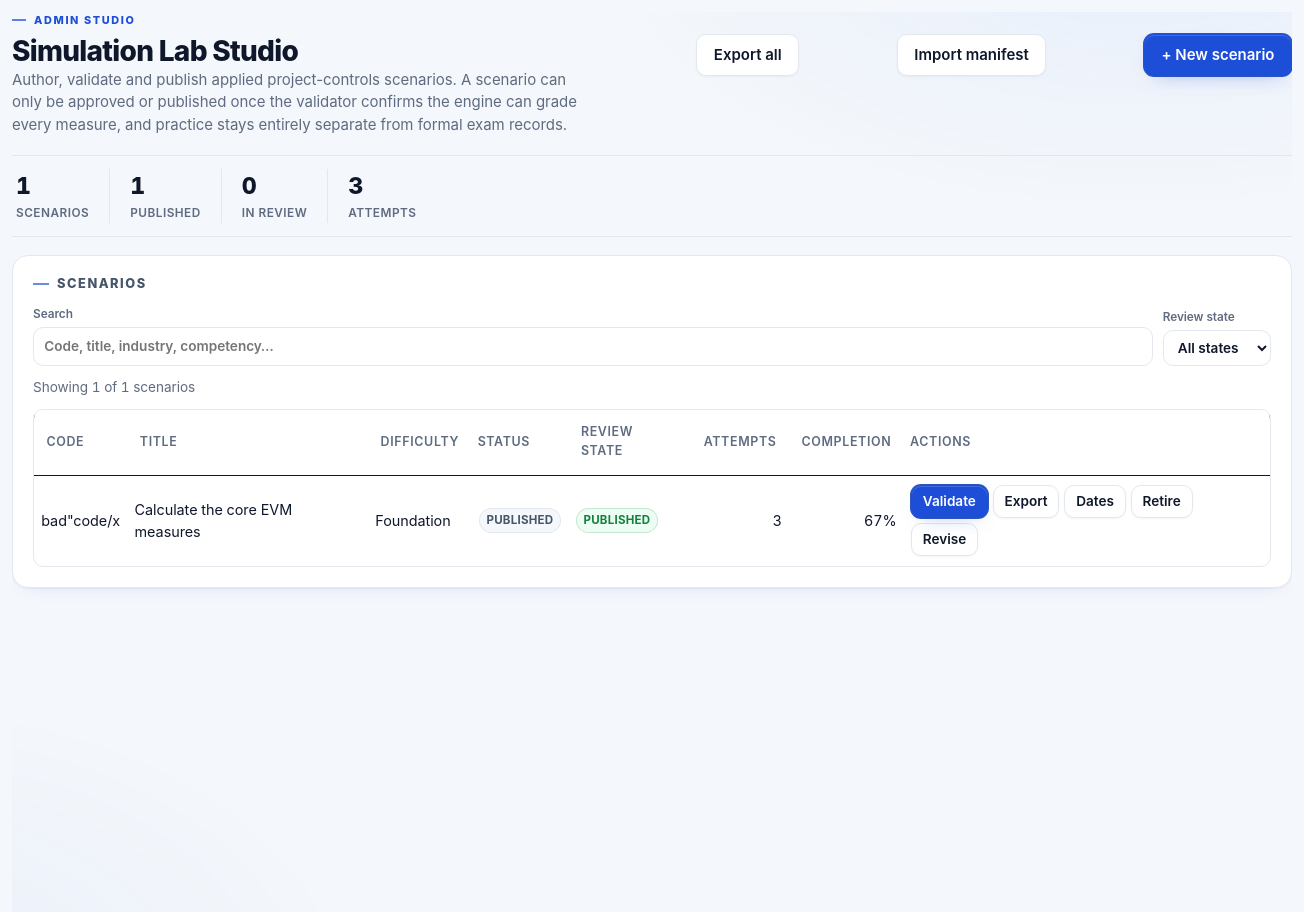
Admin SimLab Studio › manifest export › falls back to a sanitised local filename when the server sends no disposition
Click the button "Export" at {"x": 1026, "y": 502}, box [993, 485, 1060, 518]
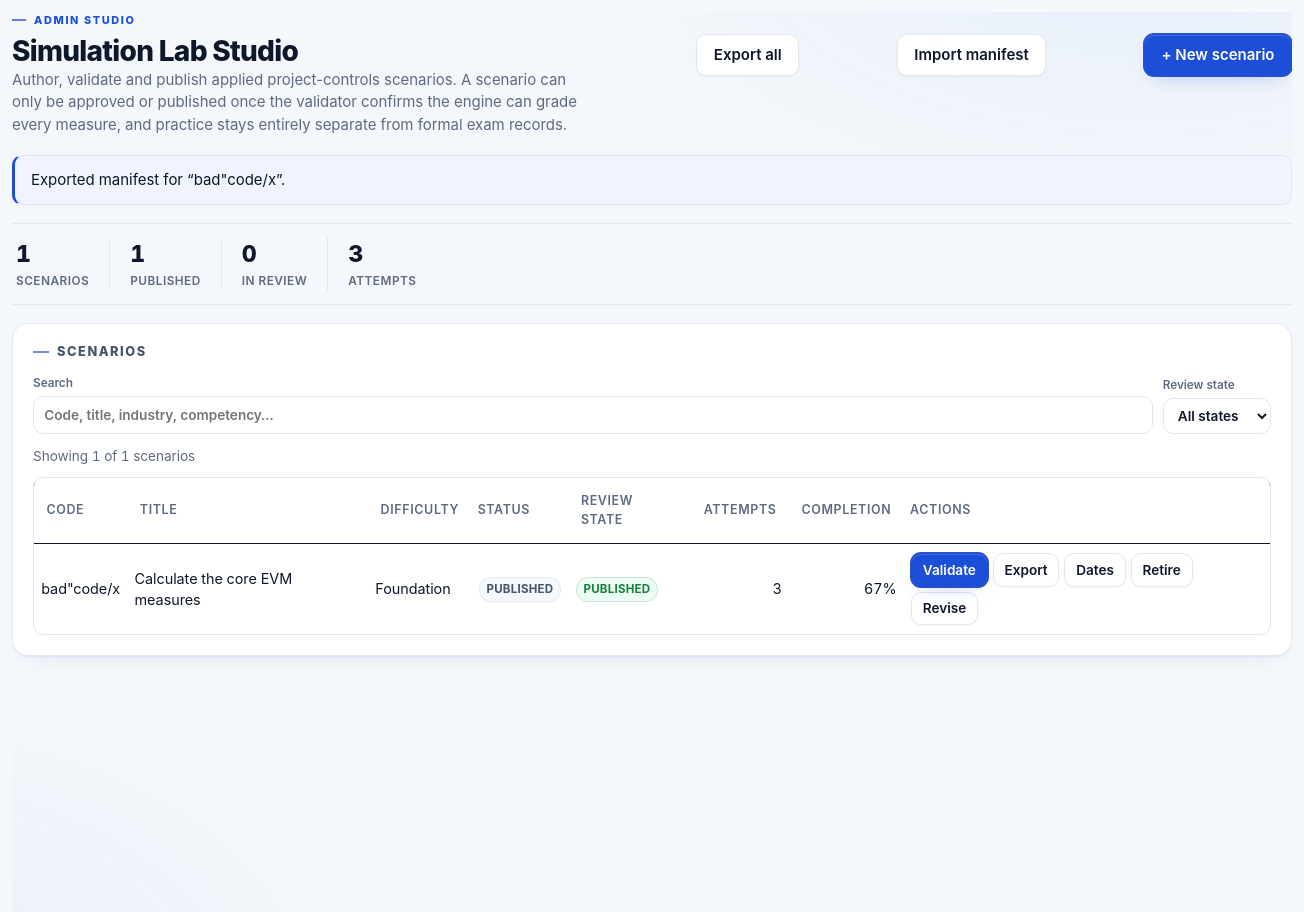
Check: the text "Exported manifest for “bad\"code/x”." is shown, box [12, 155, 1292, 205]
